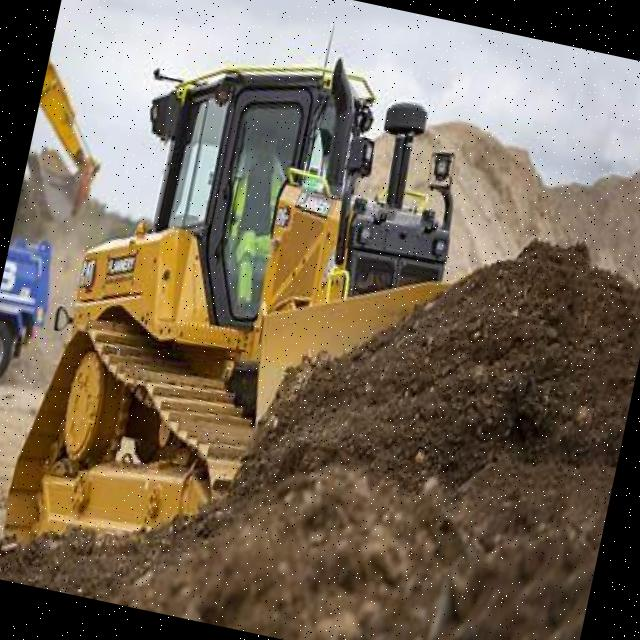Bulldozer: (0, 15, 502, 640)
